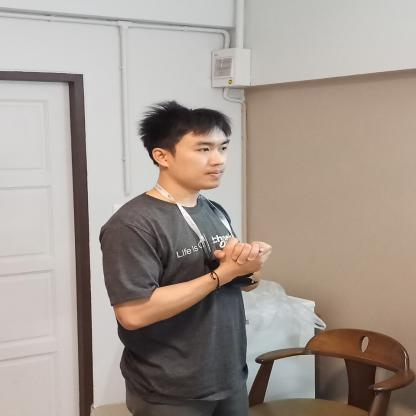Grieve: (145, 222, 306, 292)
